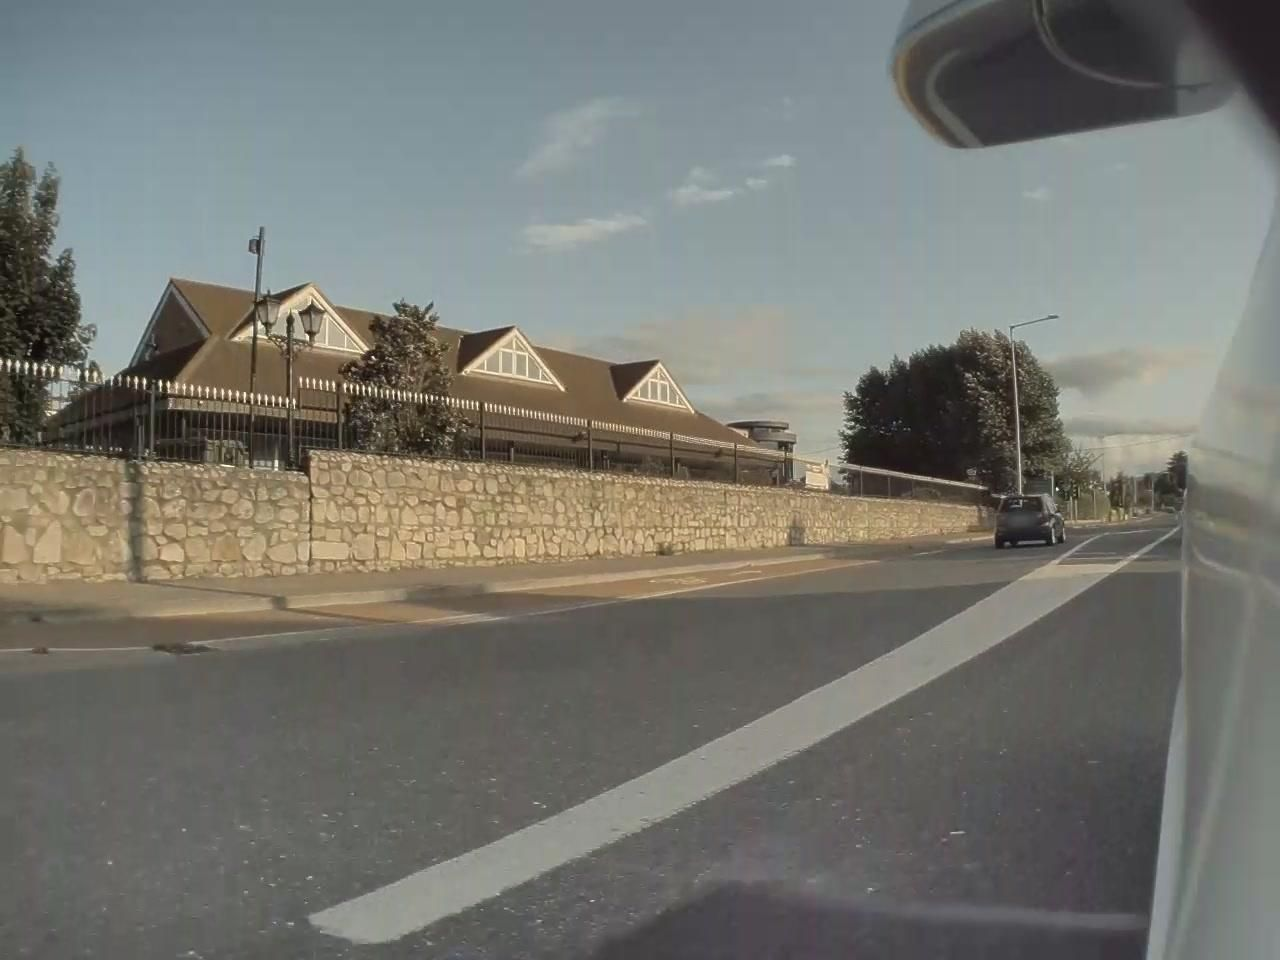vinyl banner: (801, 451, 839, 500)
